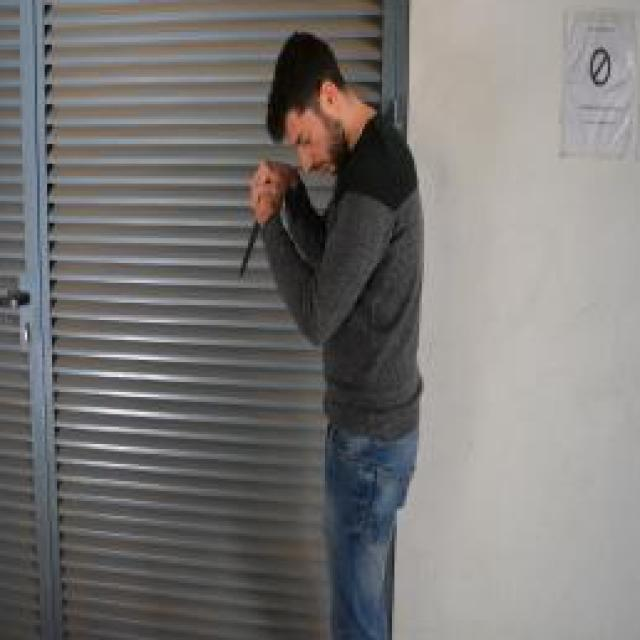knife: (236, 206, 266, 286)
